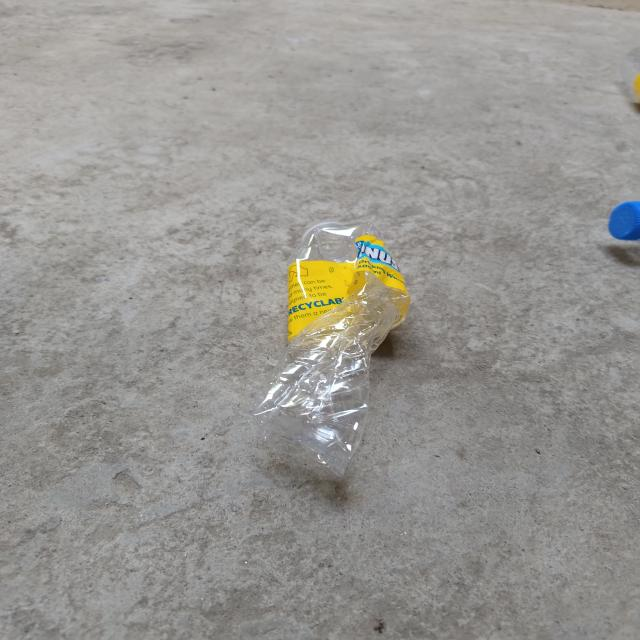Bottle: (253, 222, 409, 478)
